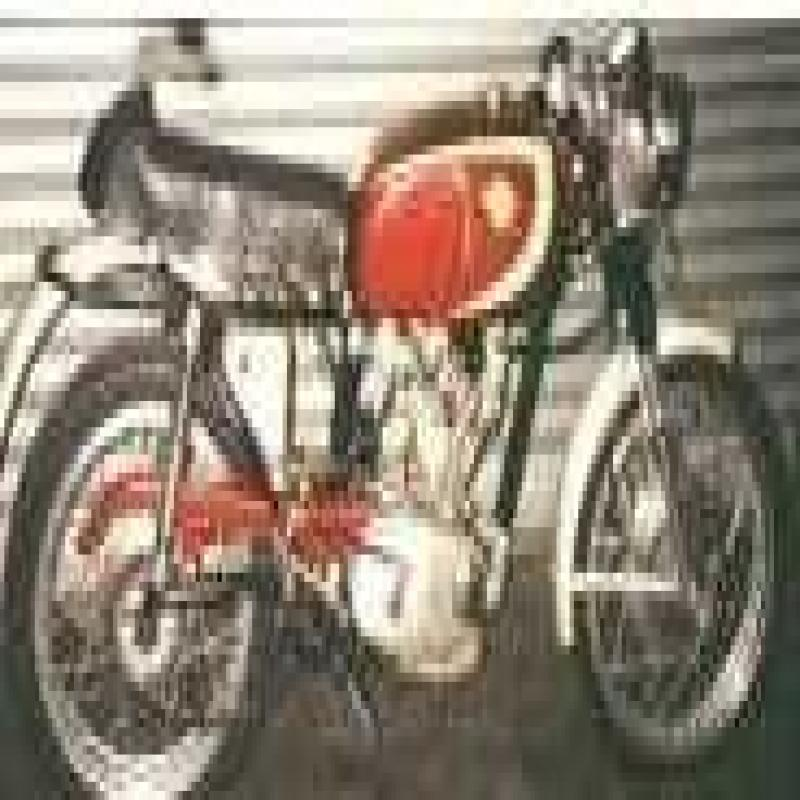bike: (18, 12, 800, 800)
